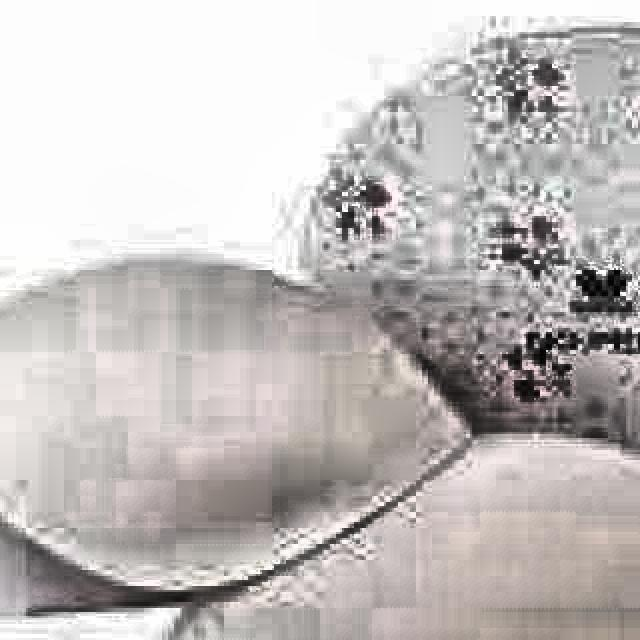paper: (298, 22, 640, 518), (0, 254, 472, 580), (156, 424, 640, 640), (0, 318, 182, 602)
